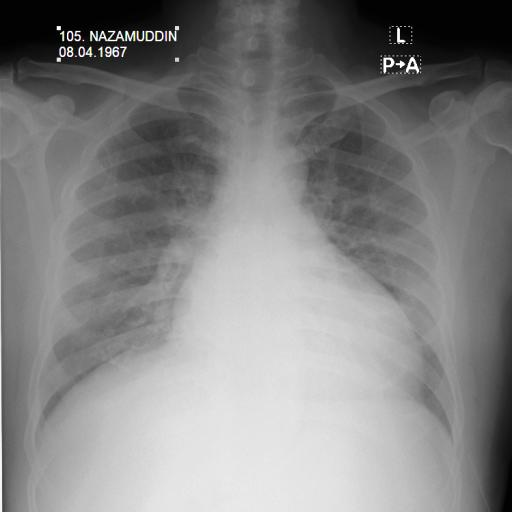kardiomegali: (30, 81, 464, 453)
